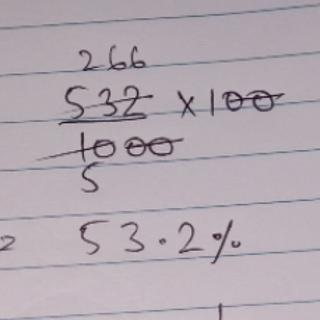.: (206, 228, 224, 244), (226, 236, 242, 251), (155, 235, 170, 249)
0: (249, 86, 276, 113), (145, 135, 175, 157), (94, 135, 116, 159), (221, 88, 243, 110), (127, 134, 146, 157)
1: (79, 127, 89, 162), (208, 86, 218, 118)
2: (177, 218, 203, 257), (123, 83, 144, 116), (76, 46, 100, 71)
3: (119, 219, 145, 255), (100, 87, 118, 116)
5: (77, 214, 110, 257), (63, 82, 89, 120), (79, 160, 105, 195)
6: (105, 44, 127, 73), (128, 44, 147, 71)
